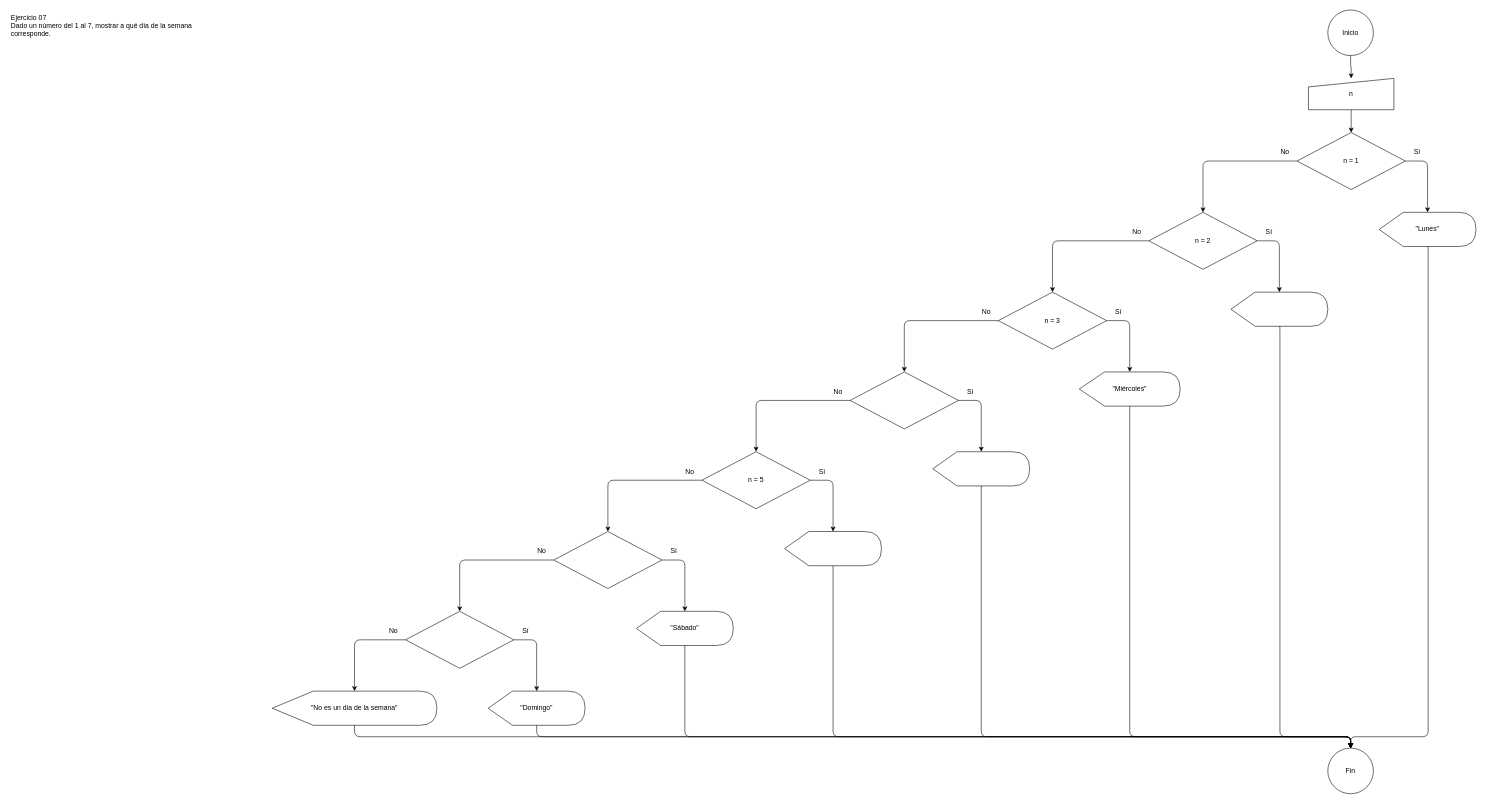
Some shapes in this 1486 by 804 pixel diagram are drawn without their labels. The centre of each missing label's shape, as x and y in pixels:
"Jueves": point (981, 468)
"Martes": point (1279, 309)
"Viernes": point (833, 548)
n = 4: point (904, 400)
n = 6: point (607, 560)
n = 7: point (459, 639)
